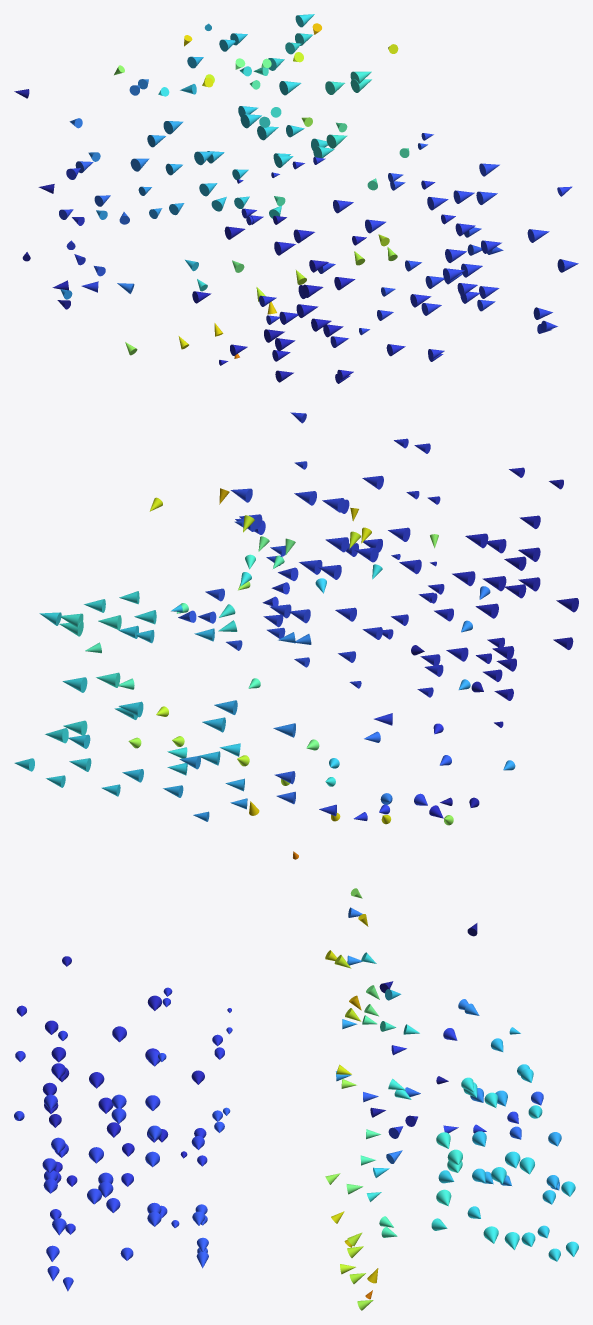
The model's file is LineasCorrienteN2-H2O_mh2-2.70_V-1.glb.
3 renders of one model, top to bottom at view 1: azimuth 30°, elevation 25°; view 2: azimuth 150°, elevation 25°; view 3: azimuth 270°, elevation 25°, orthographic. The views are drawn at different scales.
Bounding box in the file's own units: 0.000984 × 0.000827 × 0.00119.
Materials: 2 (2 with a texture image).
